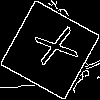X: (25, 25, 78, 70)
